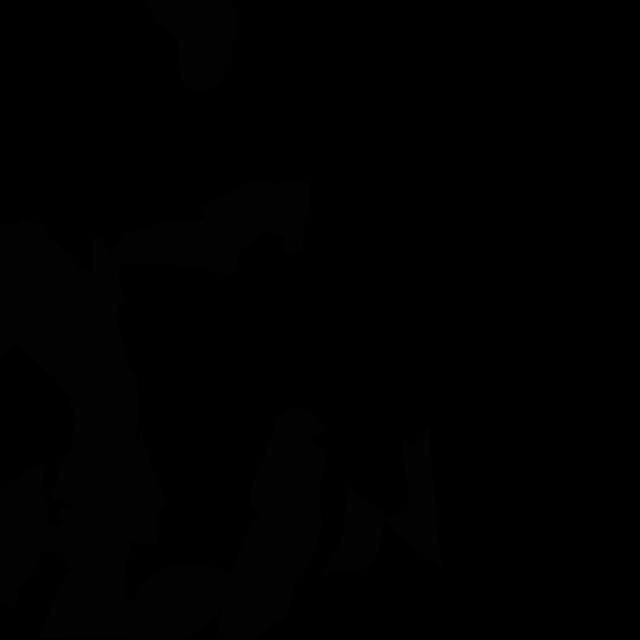cardboard: (0, 218, 138, 505), (93, 177, 310, 315), (39, 426, 167, 627), (216, 407, 326, 639), (38, 559, 231, 640), (145, 0, 238, 92), (385, 426, 443, 570), (0, 464, 50, 609), (322, 483, 386, 574), (297, 488, 322, 579)
